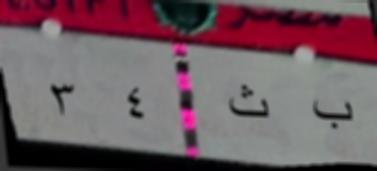3: (44, 75, 80, 123)
4: (119, 80, 152, 128)
baa: (309, 96, 358, 132)
thaa: (226, 83, 273, 128)
